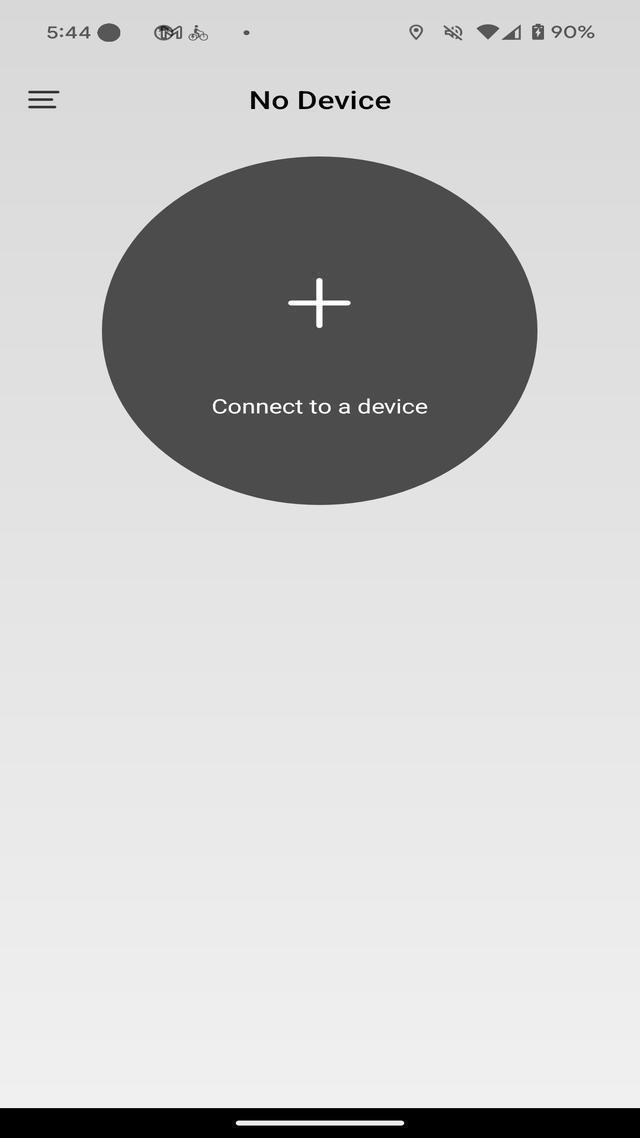Icon: (286, 274, 356, 328), (19, 80, 64, 116), (152, 19, 185, 44), (439, 20, 467, 42), (95, 22, 122, 44), (500, 23, 525, 44), (188, 23, 210, 45), (476, 21, 498, 42), (530, 18, 547, 45), (410, 24, 426, 46), (236, 24, 256, 38)
Text: (208, 392, 435, 428), (243, 82, 401, 121), (552, 20, 602, 44), (45, 22, 92, 43)
